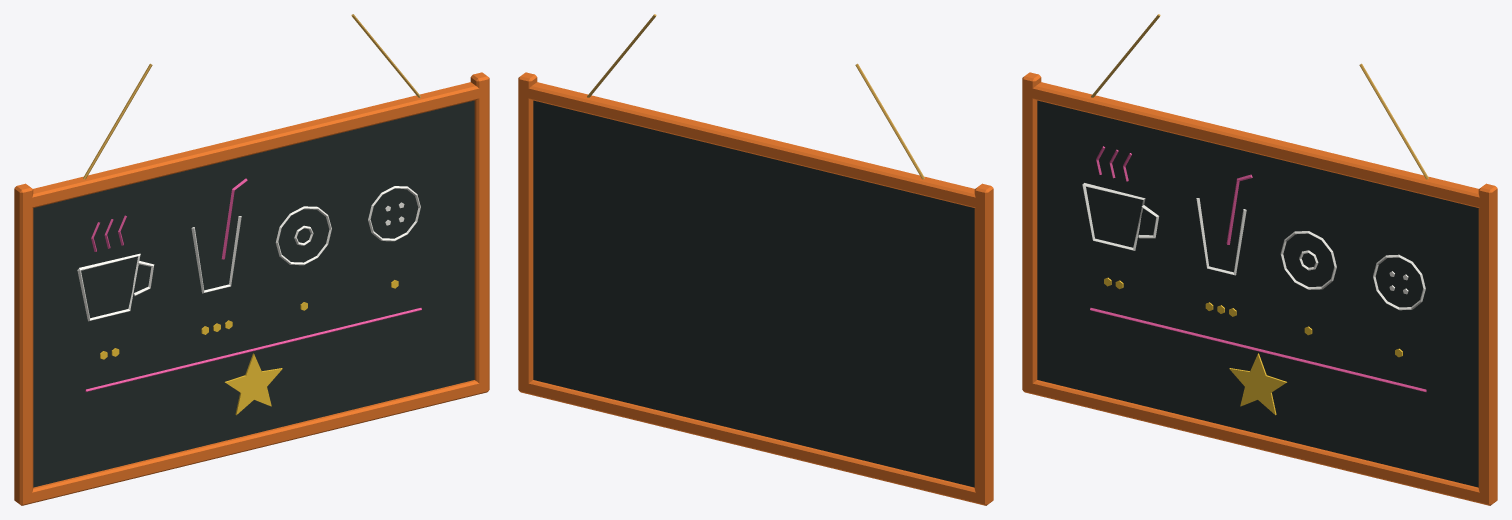
3 renders of one model, left to right at view 1: azimuth 30°, elevation 25°; view 2: azimuth 150°, elevation 25°; view 3: azimuth 330°, elevation 25°, orthographic.
Visible parts, largest first — view 1: slate, frame_top, frame_bottom, frame_left, frame_right, party_star, underline, cup, glass, donut; view 2: slate, frame_top, frame_bottom, frame_left, frame_right; view 3: slate, frame_top, frame_bottom, frame_right, frame_left, party_star, underline, cup, glass, donut.
Part boxes in pixels (bbox=[...]): slate: bbox=[33, 100, 474, 487]; frame_top: bbox=[19, 82, 489, 209]; frame_bottom: bbox=[20, 380, 489, 505]; frame_left: bbox=[14, 183, 33, 505]; frame_right: bbox=[470, 72, 489, 394]; party_star: bbox=[225, 353, 282, 415]; underline: bbox=[85, 308, 421, 391]; cup: bbox=[77, 253, 140, 321]; glass: bbox=[191, 216, 241, 293]; donut: bbox=[275, 206, 331, 265]; slate: bbox=[533, 100, 974, 487]; frame_top: bbox=[521, 82, 993, 209]; frame_bottom: bbox=[518, 380, 991, 505]; frame_left: bbox=[974, 183, 993, 505]; frame_right: bbox=[518, 72, 537, 393]; slate: bbox=[1037, 100, 1478, 487]; frame_top: bbox=[1025, 82, 1497, 209]; frame_bottom: bbox=[1022, 380, 1495, 505]; frame_right: bbox=[1478, 183, 1497, 505]; frame_left: bbox=[1022, 72, 1041, 393]; party_star: bbox=[1229, 353, 1286, 415]; underline: bbox=[1090, 308, 1426, 391]; cup: bbox=[1082, 183, 1145, 250]; glass: bbox=[1196, 198, 1246, 275]; donut: bbox=[1280, 231, 1336, 289].
Bounding box in the file's own units: 1.4 × 1.16 × 0.04.
